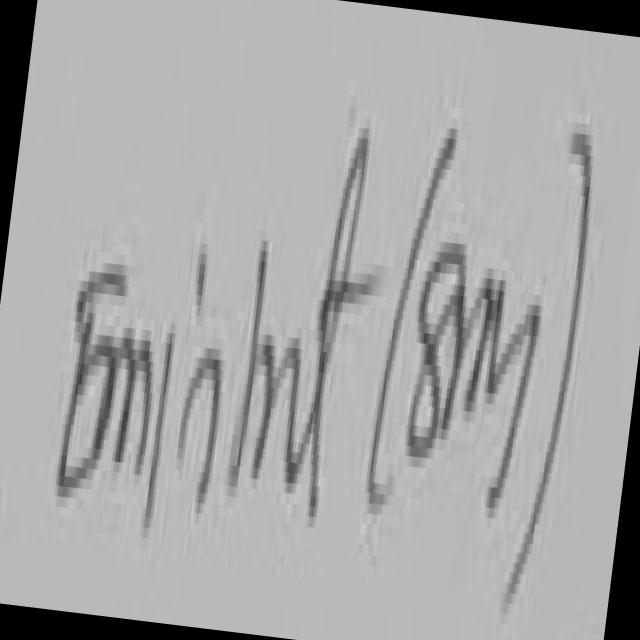8: (408, 240, 466, 456)
E: (58, 271, 125, 502)
g: (490, 305, 541, 507)
i: (144, 333, 174, 523), (197, 254, 207, 310)
m: (445, 265, 522, 424), (93, 329, 153, 481)
n: (253, 335, 305, 487)
s: (179, 348, 222, 498)
t: (295, 128, 376, 512), (231, 238, 270, 486)
